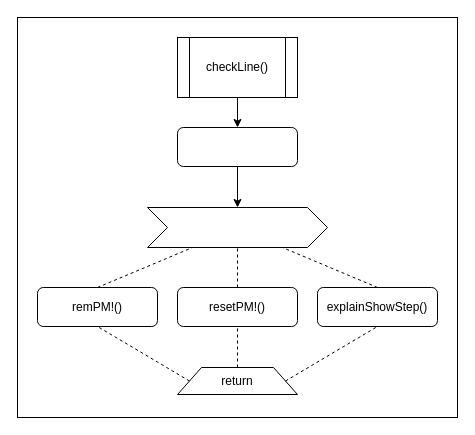
The diagram is 475 pixels wide and 435 high, and some of its shapes have lost their labels. Here are the shapes that lost their labels. From the top down, the box of each, then its label:
(176, 126, 298, 166): convHlLine()
(146, 206, 328, 248): A lot of logical checks
